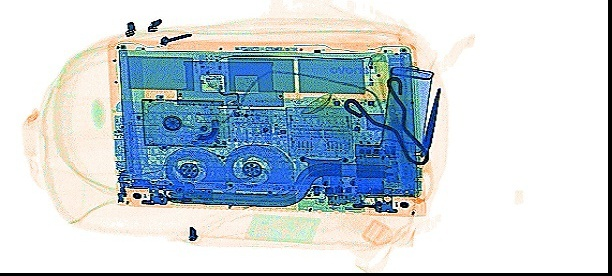pressure: (299, 90, 399, 196)
scissors: (405, 86, 438, 205)
slingshot: (342, 73, 427, 165)
zippooil: (379, 63, 434, 153)
